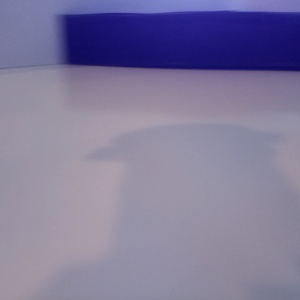zone: (64, 10, 297, 71)
